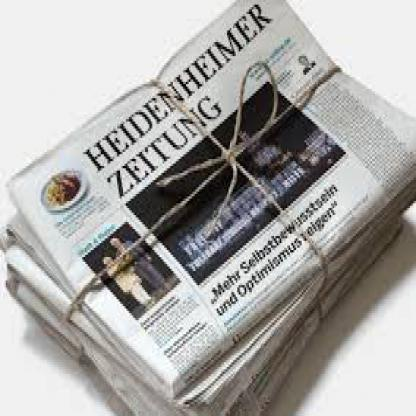paper: (7, 0, 414, 395), (0, 208, 415, 409), (5, 276, 414, 414)
